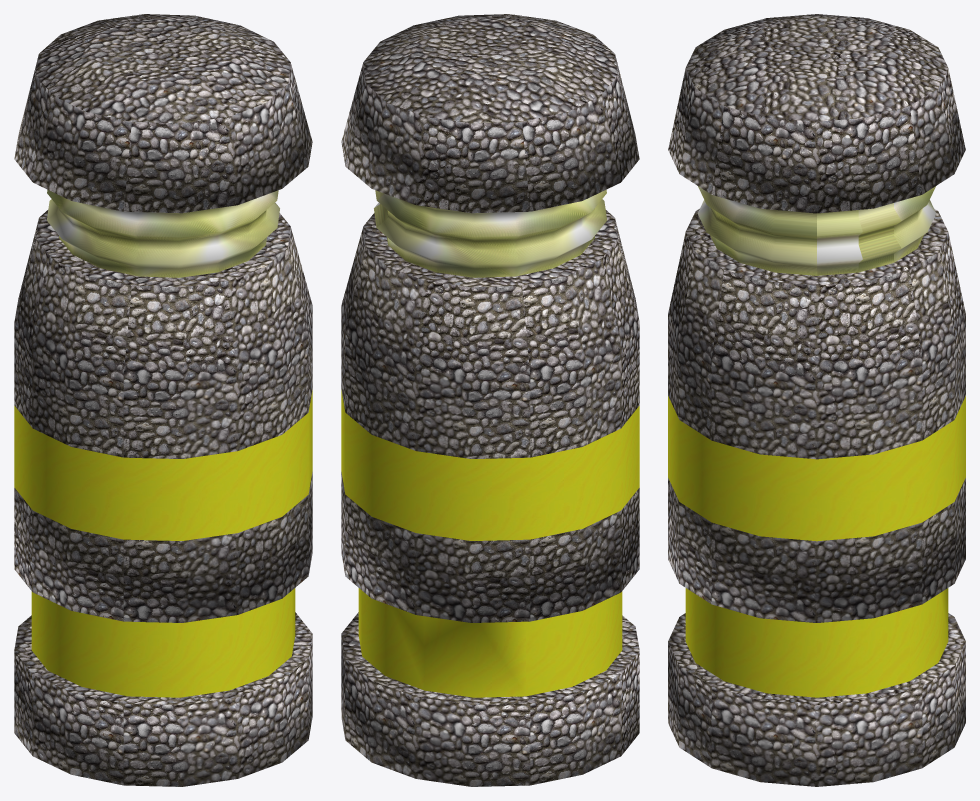
The model's file is ConcreteLitBollard.fbx.
3 views of the same model, side by side, from view 1: azimuth 30°, elevation 25°; view 2: azimuth 150°, elevation 25°; view 3: azimuth 270°, elevation 25° (orthographic).
Parts seen in each view (by area): view 1: default; view 2: default; view 3: default.
Boxes of the visible parts, box(x1,y1,x2,y2) form: default: box(14, 14, 312, 786); default: box(341, 14, 639, 786); default: box(668, 14, 965, 786).
Size of the model in its own units: 519 by 1277 by 512.
